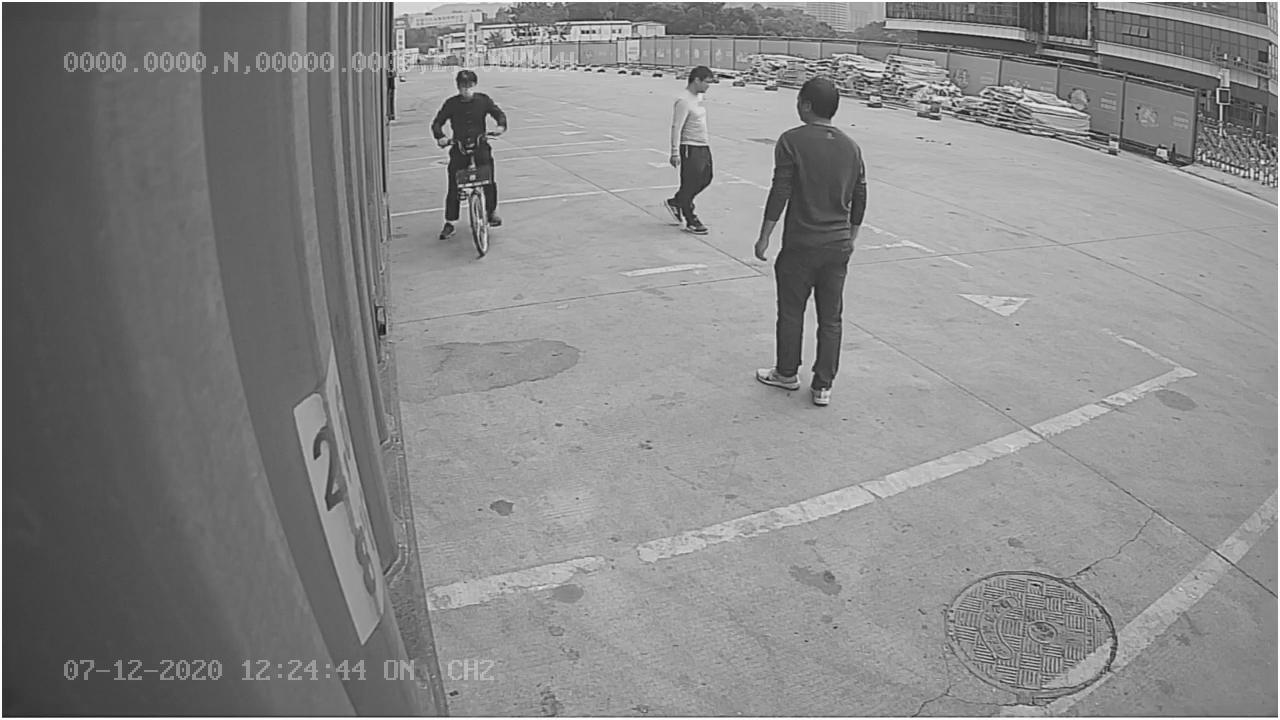person: (751, 73, 872, 408), (657, 60, 720, 238)
